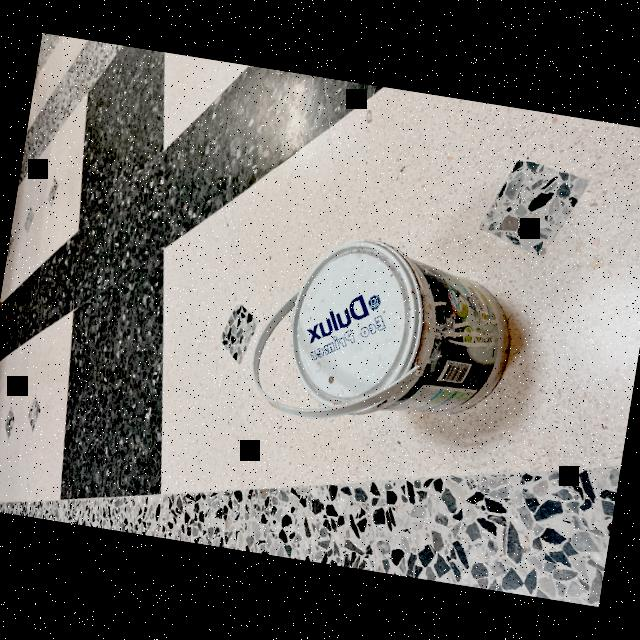paint_bucket: (238, 207, 532, 470)
